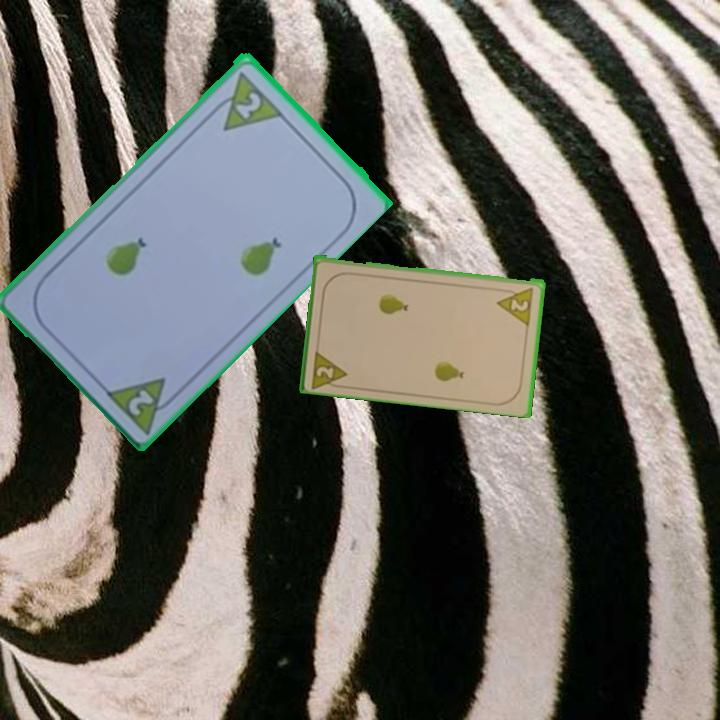2p: (205, 67, 284, 133), (308, 345, 350, 391), (494, 283, 537, 327), (124, 384, 157, 418)
